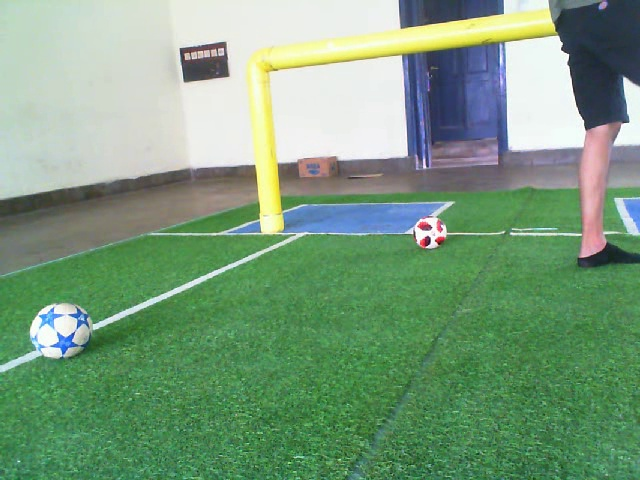ball: (28, 300, 94, 362), (412, 214, 449, 251)
